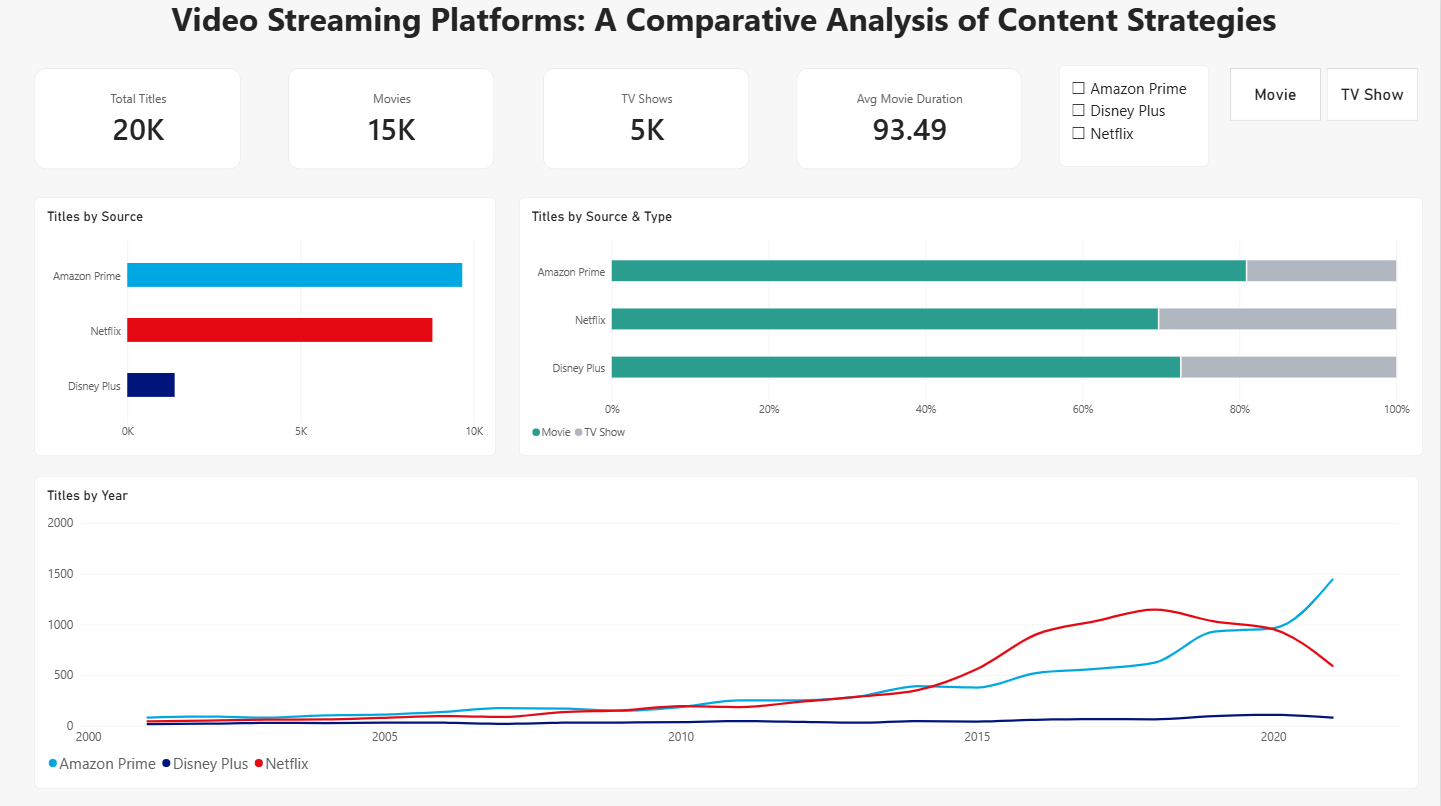

What the dashboard file says about the page in this screenshot:
{"tool":"powerbi","page":{"name":"Overview","canvas":[1920,1080],"ordinal":0},"visuals":[{"type":"textbox","box":[10,0,1910,63.3],"z":0},{"type":"clusteredBarChart","title":"Titles by Source","fields":{"Category":["Data.source"],"Y":["Data.Total Titles"]},"box":[45,267.5,615,345],"z":1000},{"type":"cardVisual","fields":{"Data":["Data.Movies"]},"box":[384.2,95,275,135],"z":2000},{"type":"hundredPercentStackedBarChart","title":"Titles by Source & Type","fields":{"Category":["Data.source"],"Series":["Data.type"],"Y":["Data.Total Titles"]},"box":[692.5,267.5,1205,345],"z":3000},{"type":"cardVisual","fields":{"Data":["Data.Total Titles"]},"box":[45,95,275,135],"z":4000},{"type":"cardVisual","fields":{"Data":["Data.TV Shows"]},"box":[723.3,95,275,135],"z":5000},{"type":"lineChart","title":"Titles by Year","fields":{"Category":["Data.release_year"],"Series":["Data.source"],"Y":["Data.Total Titles"]},"box":[45,640,1845,417.5],"z":6000},{"type":"cardVisual","fields":{"Data":["Data.Avg Movie Duration"]},"box":[1062.5,95,300,135],"z":7000},{"type":"listSlicer","fields":{"Values":["Data.source"]},"box":[1412.5,92.5,200,135],"z":8000},{"type":"advancedSlicerVisual","fields":{"Values":["Data.type"]},"box":[1640,95,250,70],"z":9000}]}

Visuals, with their boxes in screenshot pixels (x1, y1, x2, y2), scaled from the page's 1920x1080 canvas onto the 1441x806 screenshot:
textbox: bbox=[8, 0, 1440, 47]
"Titles by Source" clusteredBarChart: bbox=[34, 200, 495, 457]
cardVisual - Data.Movies: bbox=[288, 71, 495, 172]
"Titles by Source & Type" hundredPercentStackedBarChart: bbox=[520, 200, 1424, 457]
cardVisual - Data.Total Titles: bbox=[34, 71, 240, 172]
cardVisual - Data.TV Shows: bbox=[543, 71, 749, 172]
"Titles by Year" lineChart: bbox=[34, 478, 1418, 789]
cardVisual - Data.Avg Movie Duration: bbox=[797, 71, 1023, 172]
listSlicer - Data.source: bbox=[1060, 69, 1210, 170]
advancedSlicerVisual - Data.type: bbox=[1231, 71, 1418, 123]
